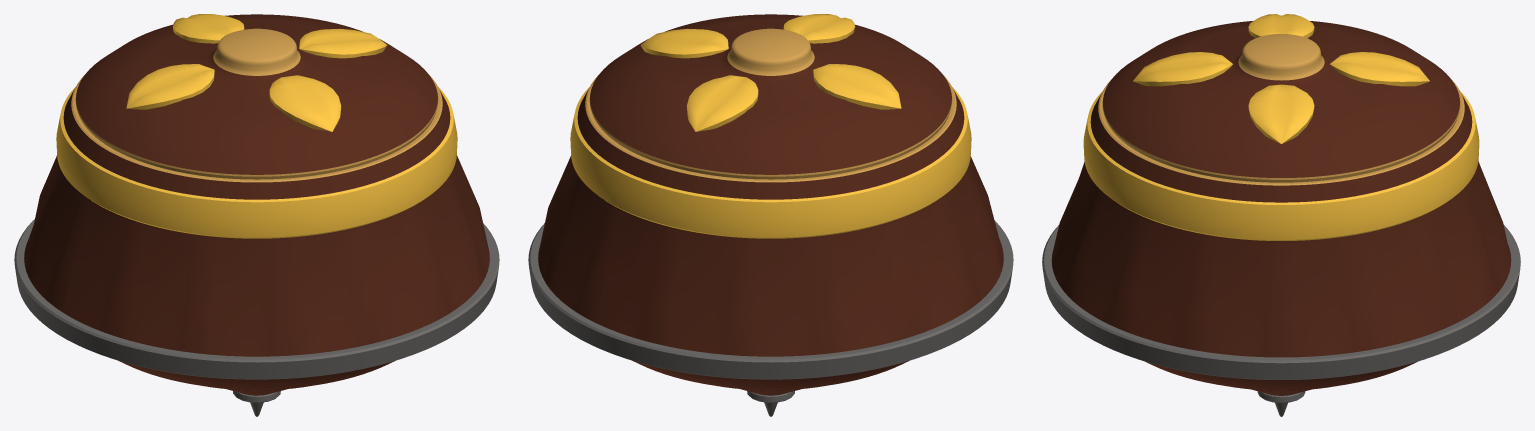
The model's file is gasing_tokgayong.glb.
3 views of the same model, side by side, from view 1: azimuth 30°, elevation 25°; view 2: azimuth 150°, elevation 25°; view 3: azimuth 270°, elevation 25° (orthographic).
Visible parts, largest first — view 1: Gasing_tokgayong; view 2: Gasing_tokgayong; view 3: Gasing_tokgayong.
Part boxes in pixels (left/top/right/bottom): Gasing_tokgayong: left=14, top=14, right=499, bottom=416; Gasing_tokgayong: left=528, top=14, right=1013, bottom=416; Gasing_tokgayong: left=1042, top=14, right=1520, bottom=416.
Size of the model in its own units: 1 by 0.85 by 1.
